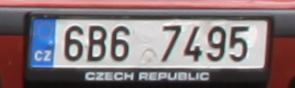4: (185, 26, 202, 62)
5: (230, 26, 248, 62)
6: (65, 26, 83, 60), (112, 26, 129, 62)
7: (161, 26, 180, 62)
9: (208, 27, 225, 62)
B: (88, 26, 106, 61)
